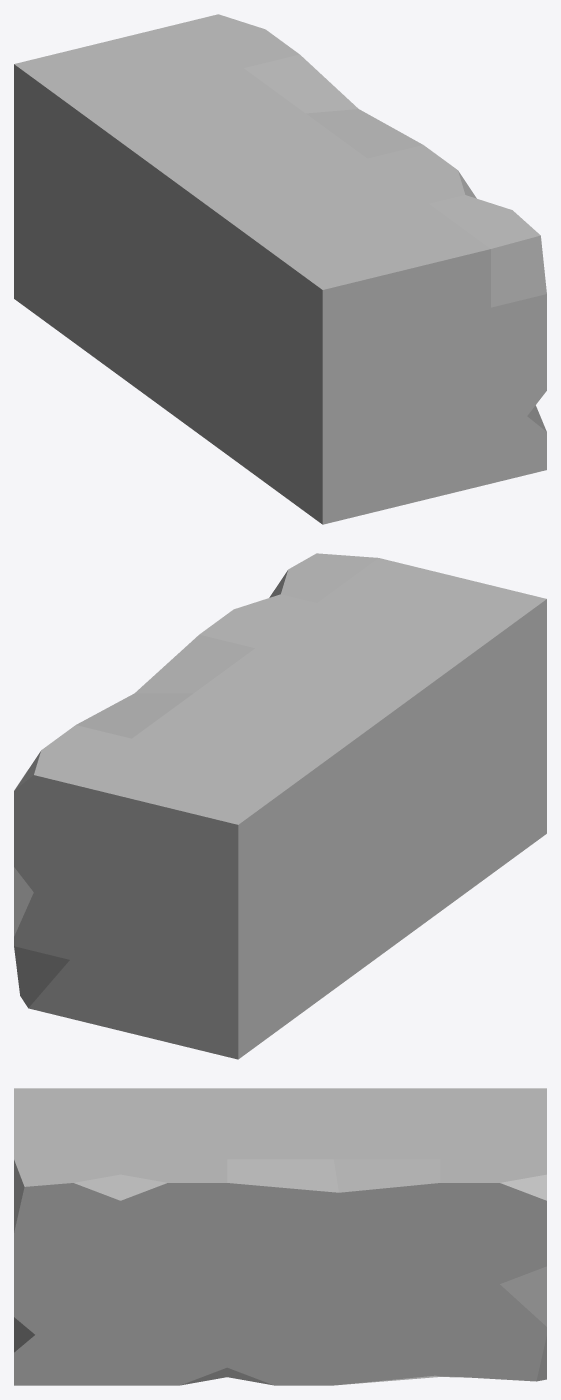
The model's file is Steen.fbx.
The picture shows the model from 3 angles, top to bottom: view 1: azimuth 30°, elevation 25°; view 2: azimuth 150°, elevation 25°; view 3: azimuth 270°, elevation 25°; orthographic projection. The views are drawn at different scales.
Visible parts, largest first — view 1: Cube; view 2: Cube; view 3: Cube.
Boxes of the visible parts, box(x1,y1,x2,y2) form: Cube: box(14, 14, 546, 524); Cube: box(14, 553, 546, 1059); Cube: box(14, 1088, 546, 1385).
Bounding box in the file's own units: 200 × 200 × 477.
Materials: 1 (1 with a texture image).
